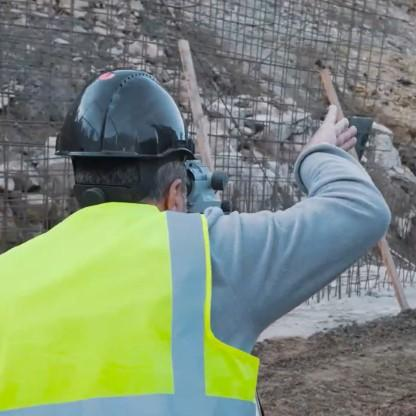helmet: (52, 64, 201, 222)
